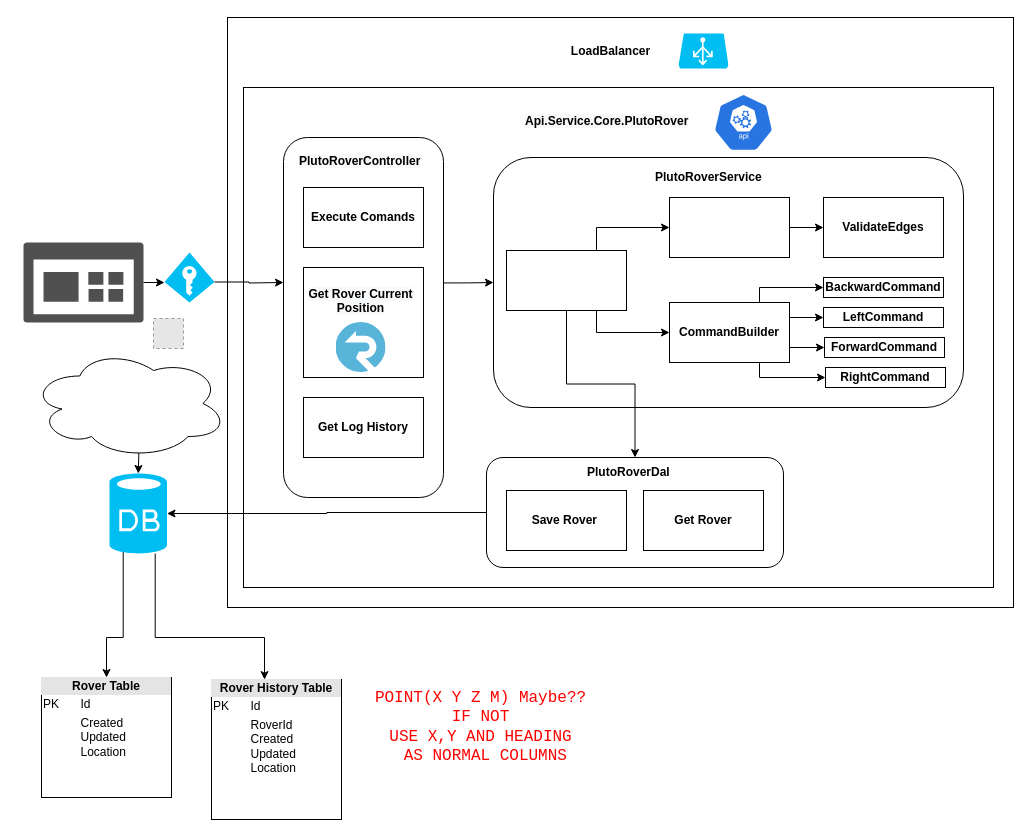
The diagram is 1031 pixels wide and 837 high, and some of its shapes have lost their labels. Grey dashed boxes stand in for pictures. The centre of each missing label's shape, as x and y in pixels:
Azure Sql Server: (x=129, y=403)
CommandHandler: (x=566, y=280)
Dashboard (React App): (x=83, y=282)
Validator: (x=729, y=227)
